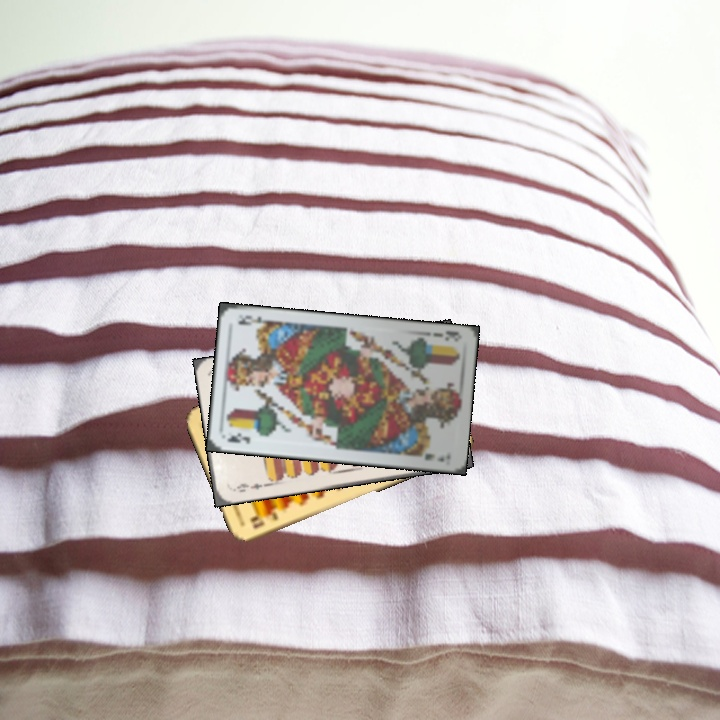E10: (247, 508, 280, 531)
E9: (229, 479, 269, 495)
EK: (430, 327, 462, 344), (224, 429, 252, 447)
